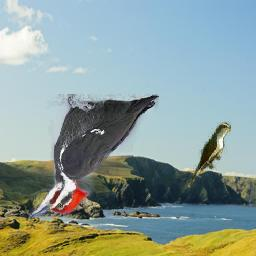Cuckoo: (189, 122, 232, 189)
Woodpecker: (29, 94, 160, 218)
